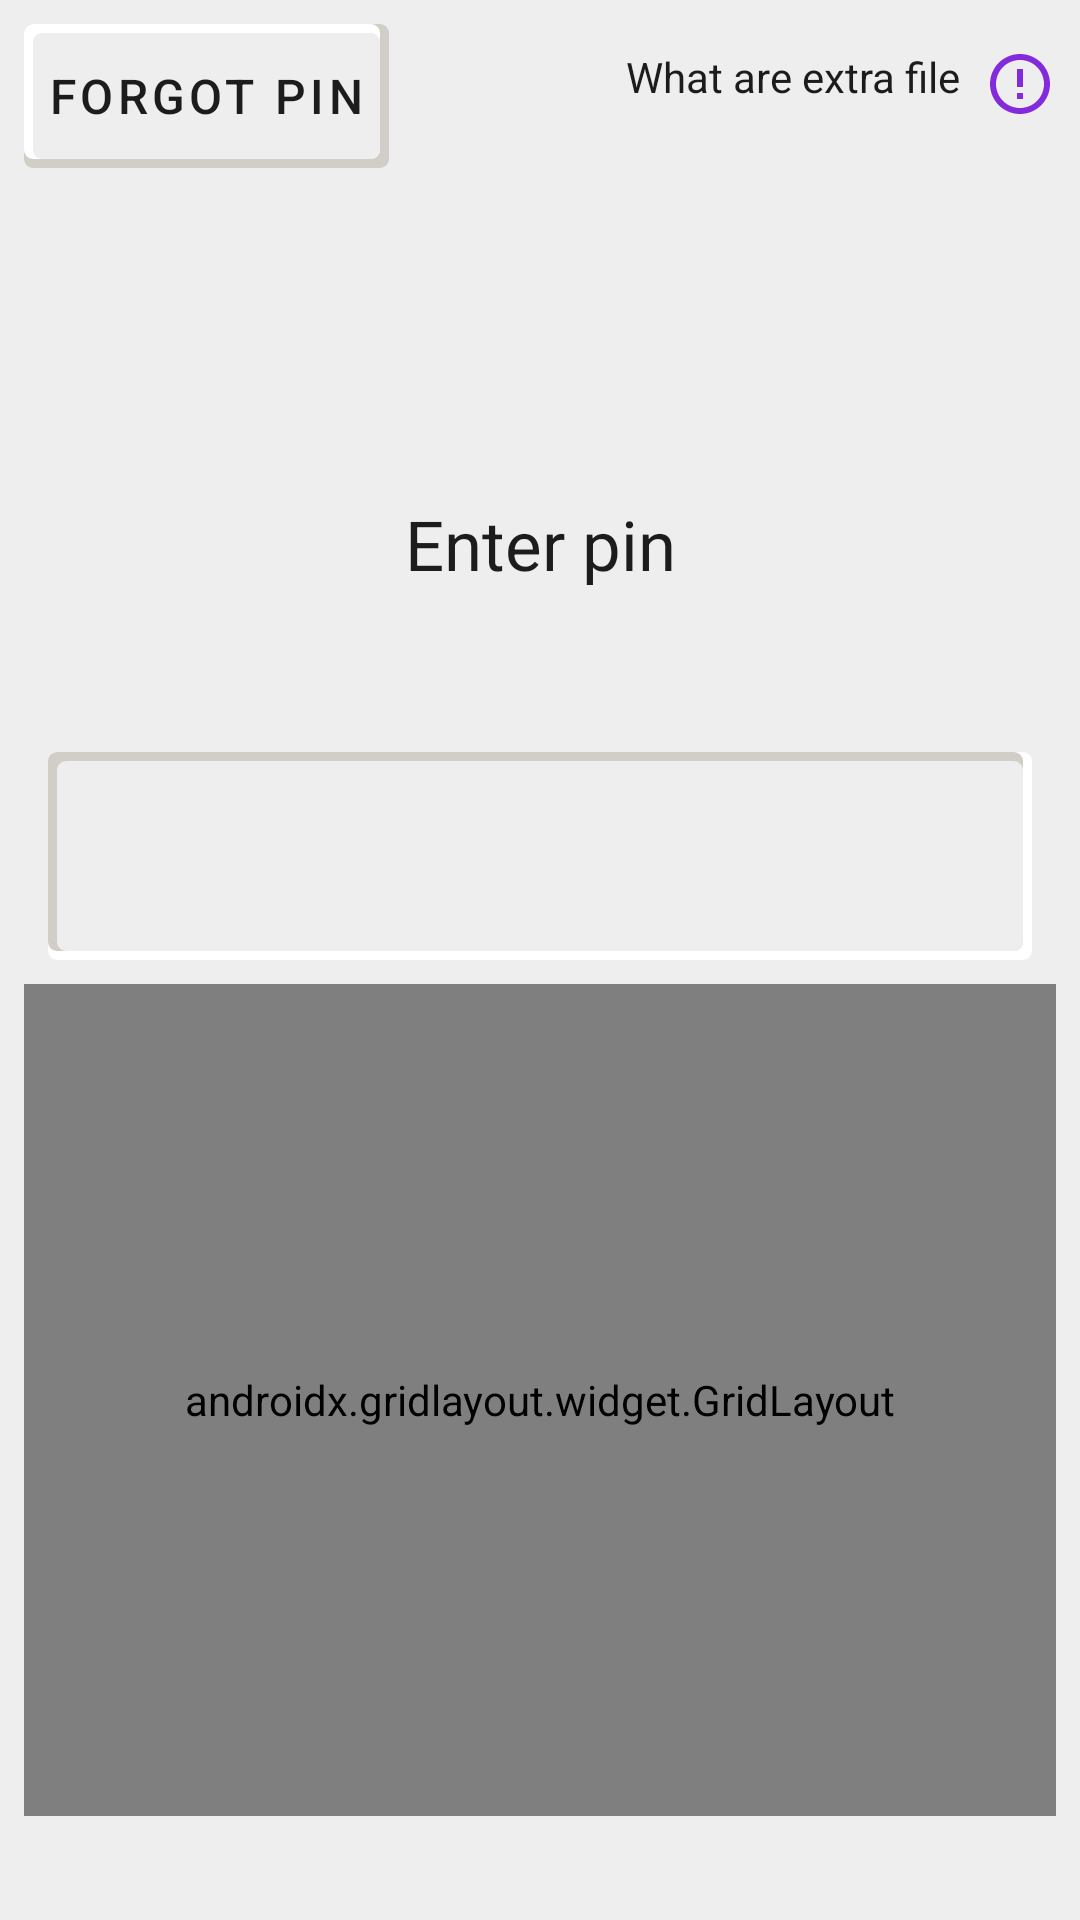

Where to tap for icons on this 1080w x 1920h app screen, as (x=x, y=y):
notify button: (x=1020, y=84)
